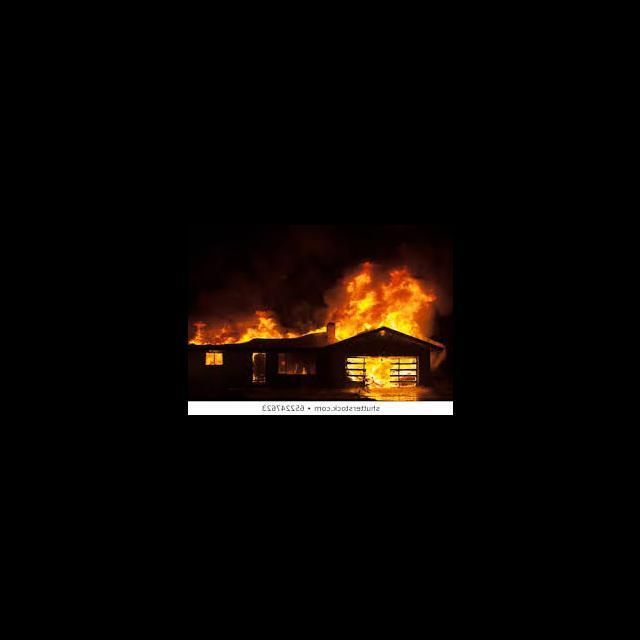Fire: (333, 257, 435, 340), (188, 300, 328, 345), (346, 357, 418, 389), (277, 354, 315, 374), (205, 352, 222, 366)
